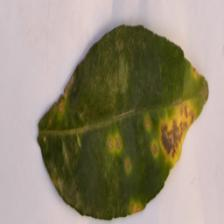canker: (26, 77, 187, 177)
